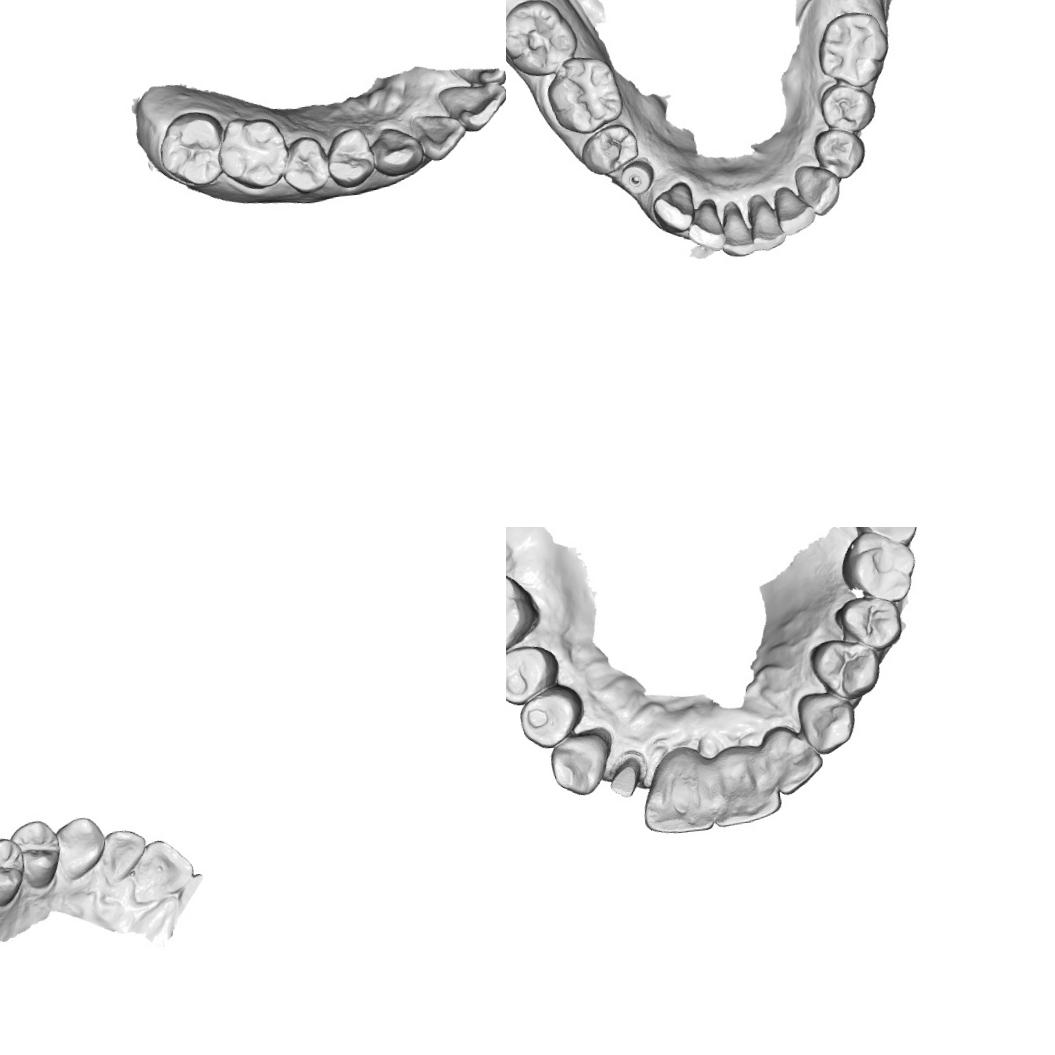canine: (546, 726, 618, 800), (796, 688, 860, 757), (52, 812, 109, 884), (369, 122, 426, 180), (792, 159, 844, 219), (650, 179, 699, 236)
crown: (606, 756, 645, 802)
implant: (618, 158, 655, 196)
incisor: (635, 742, 721, 838), (706, 740, 782, 830), (125, 834, 198, 907), (758, 721, 827, 798), (433, 78, 506, 137), (411, 108, 471, 164), (98, 825, 150, 883), (770, 182, 818, 238), (683, 198, 726, 256), (745, 198, 788, 253), (717, 206, 755, 260)
molar: (541, 51, 628, 139), (835, 527, 921, 609), (214, 112, 294, 200), (812, 6, 893, 92), (506, 0, 582, 82), (154, 108, 228, 192), (506, 567, 544, 663)
premolar: (808, 633, 883, 706), (514, 680, 589, 752), (832, 592, 906, 657), (7, 816, 66, 894), (574, 120, 642, 178), (506, 642, 564, 709), (324, 123, 378, 191), (815, 80, 879, 136), (278, 132, 330, 199), (810, 125, 870, 183), (0, 834, 28, 909)
